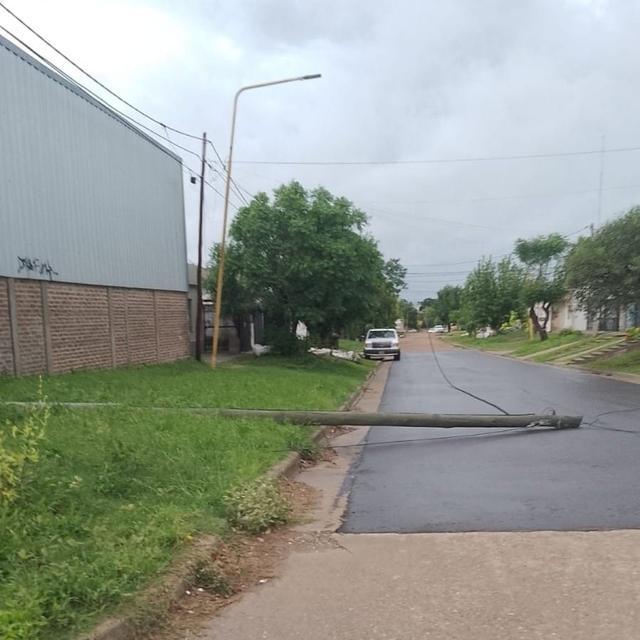Inclined Pole: (4, 394, 585, 436)
